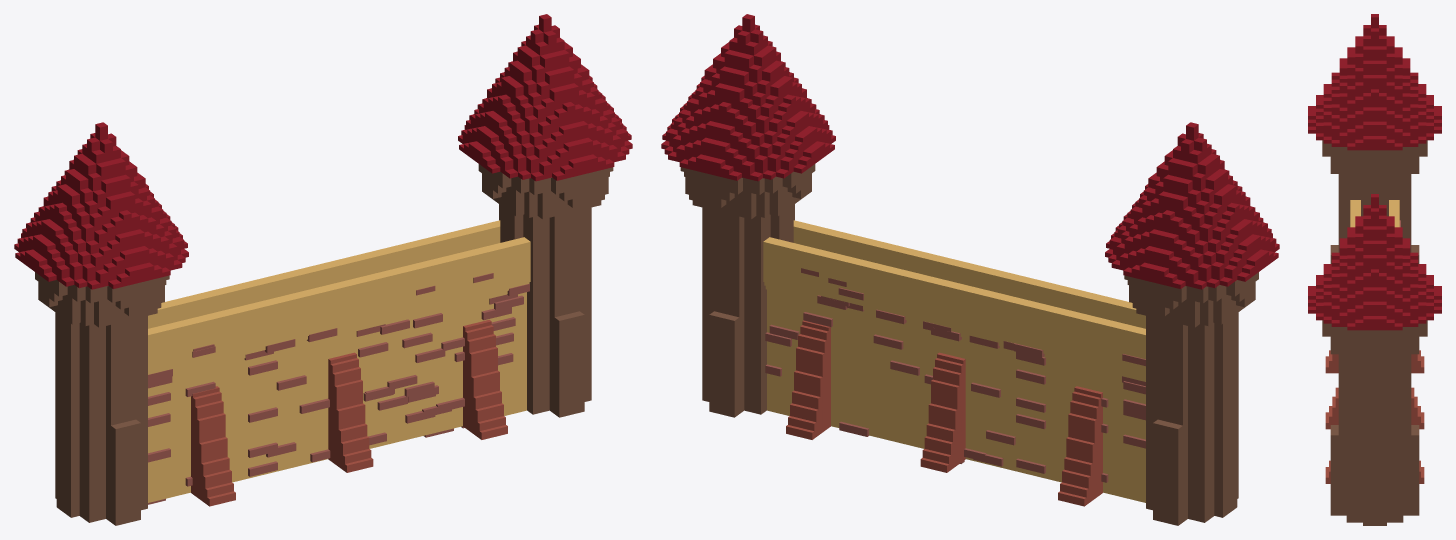
File: Стена.fbx
3 renders of one model, left to right at view 1: azimuth 30°, elevation 25°; view 2: azimuth 150°, elevation 25°; view 3: azimuth 270°, elevation 25°, orthographic. The views are drawn at different scales.
Visible parts, largest first — view 1: Cone; view 2: Cone; view 3: Cone.
Part boxes in pixels (x1,y1,x2,y2): Cone: (14,14,632,525); Cone: (661,14,1279,525); Cone: (1308,14,1441,525).
Size of the model in its own units: 1554 by 982 by 371.
